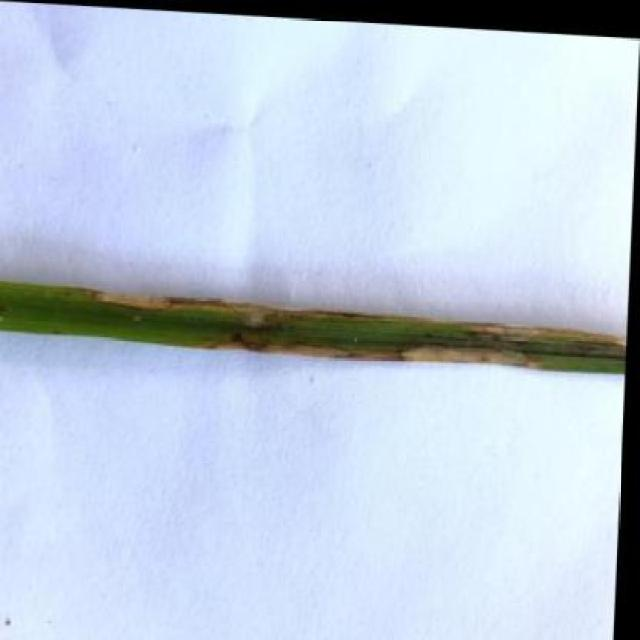Brown_Spot: (0, 266, 631, 379)
